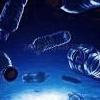Plastic: (66, 35, 100, 84), (23, 28, 73, 61), (1, 50, 22, 89)
